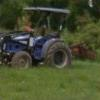Tractor: (6, 5, 71, 72)
